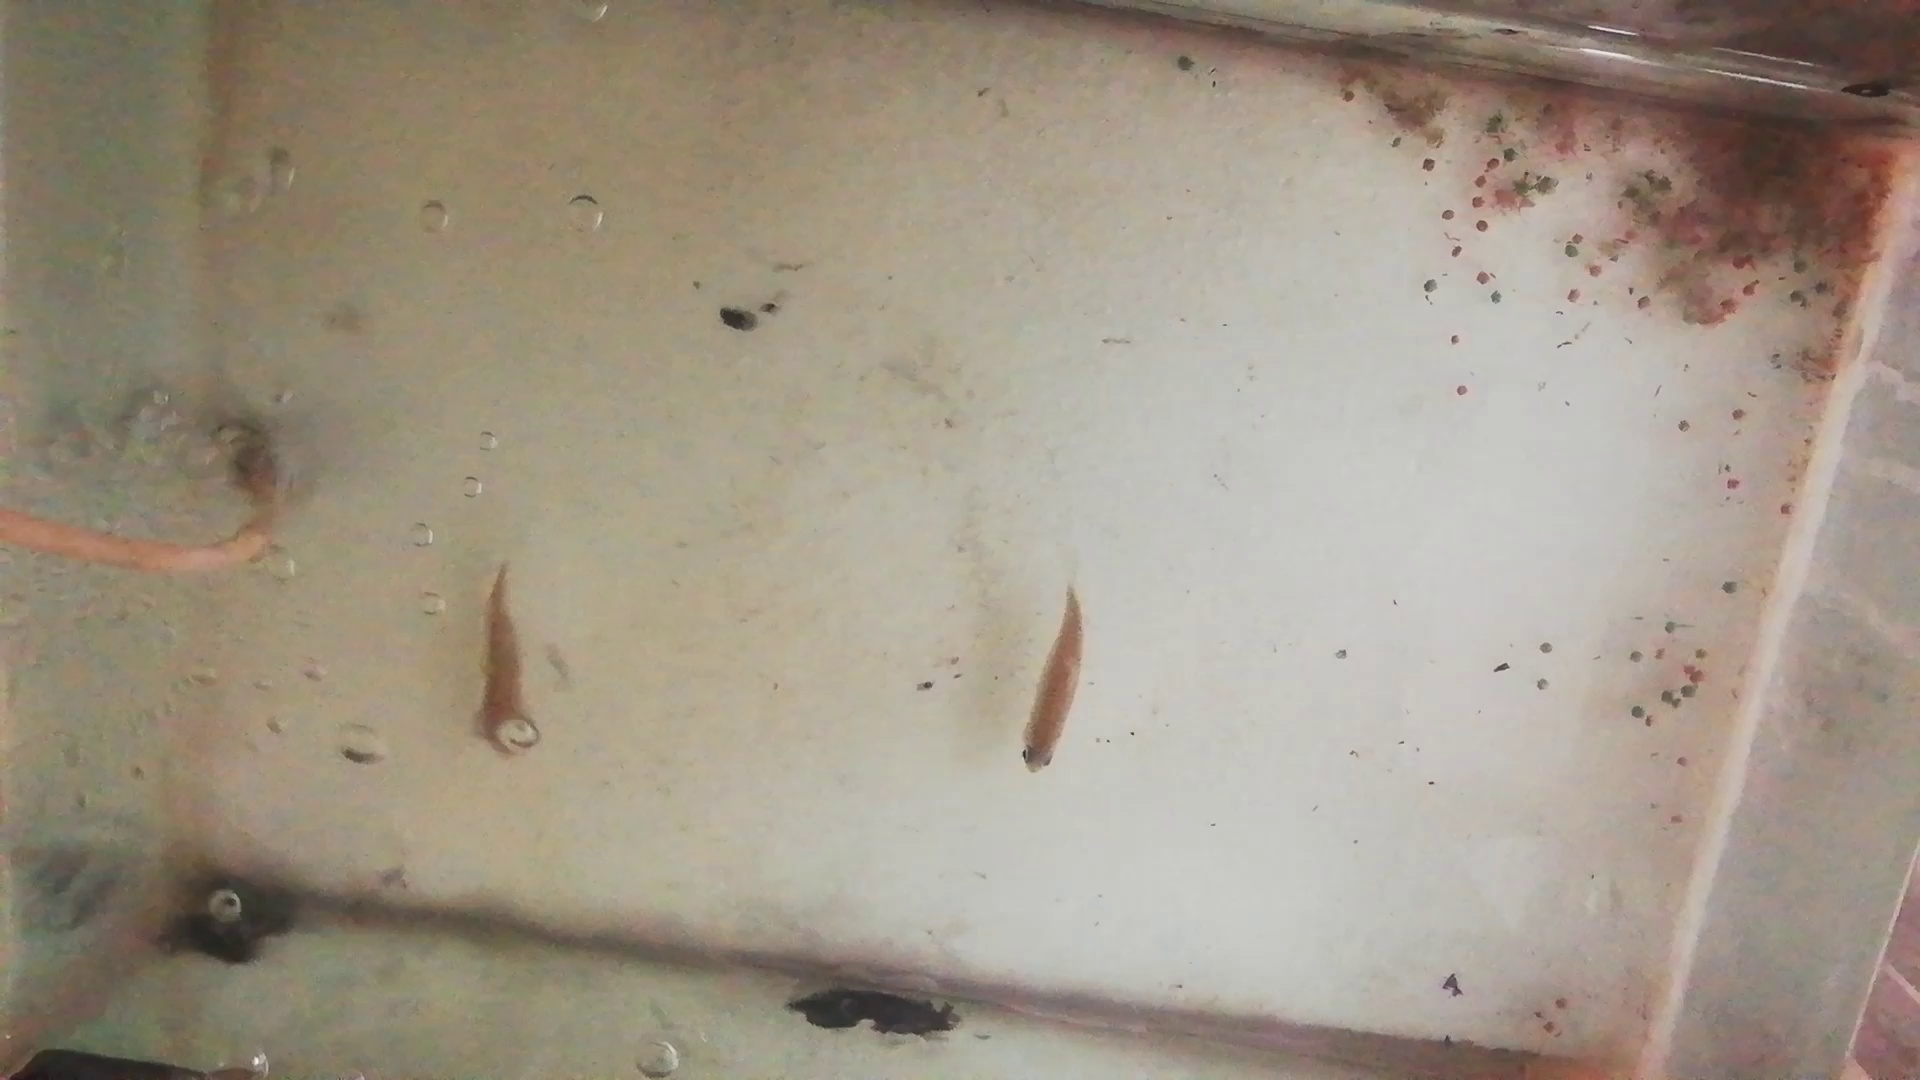fish: (472, 560, 537, 766), (1019, 585, 1089, 775)
